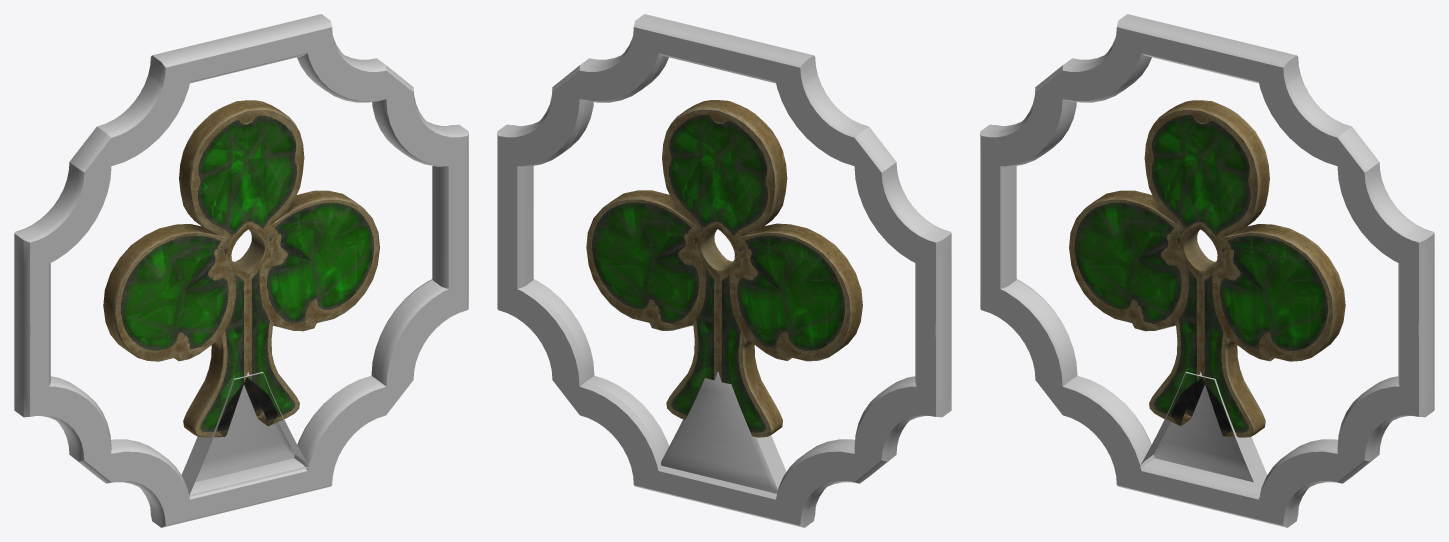
The model's file is sm40_504_dooremblemmark01a_clover.fbx.
3 renders of one model, left to right at view 1: azimuth 30°, elevation 25°; view 2: azimuth 150°, elevation 25°; view 3: azimuth 330°, elevation 25°, orthographic.
Visible parts, largest first — view 1: LOD_1_Group_0_Sub_2__sm40_504_SpadeKey01A_A_Mat, LOD_1_Group_0_Sub_1__sm40_504_ClubKey01A_A_Mat; view 2: LOD_1_Group_0_Sub_2__sm40_504_SpadeKey01A_A_Mat, LOD_1_Group_0_Sub_1__sm40_504_ClubKey01A_A_Mat; view 3: LOD_1_Group_0_Sub_2__sm40_504_SpadeKey01A_A_Mat, LOD_1_Group_0_Sub_1__sm40_504_ClubKey01A_A_Mat.
Part boxes in pixels (bbox=[...]): LOD_1_Group_0_Sub_2__sm40_504_SpadeKey01A_A_Mat: bbox=[14, 14, 468, 527]; LOD_1_Group_0_Sub_1__sm40_504_ClubKey01A_A_Mat: bbox=[103, 100, 379, 437]; LOD_1_Group_0_Sub_2__sm40_504_SpadeKey01A_A_Mat: bbox=[497, 14, 951, 527]; LOD_1_Group_0_Sub_1__sm40_504_ClubKey01A_A_Mat: bbox=[586, 100, 862, 437]; LOD_1_Group_0_Sub_2__sm40_504_SpadeKey01A_A_Mat: bbox=[980, 14, 1434, 527]; LOD_1_Group_0_Sub_1__sm40_504_ClubKey01A_A_Mat: bbox=[1069, 100, 1345, 437].
Size of the model in its own units: 0.2049 by 0.2049 by 0.0121.
